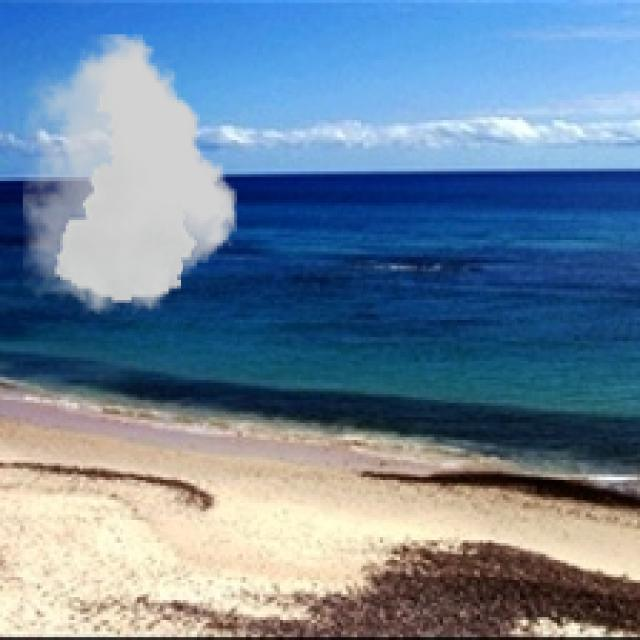smoke: (23, 34, 237, 314)
